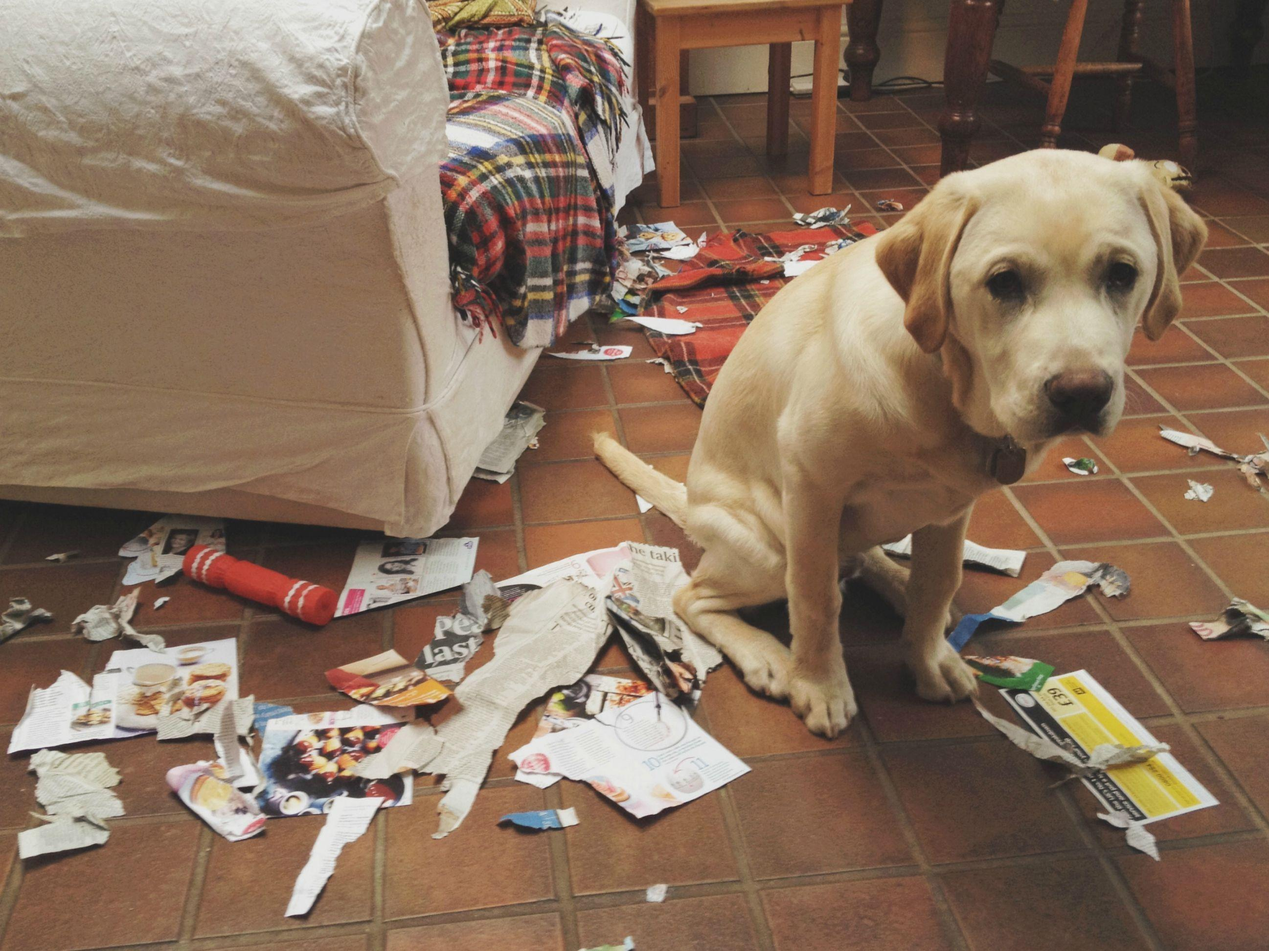adult_dog: (590, 147, 1211, 737)
